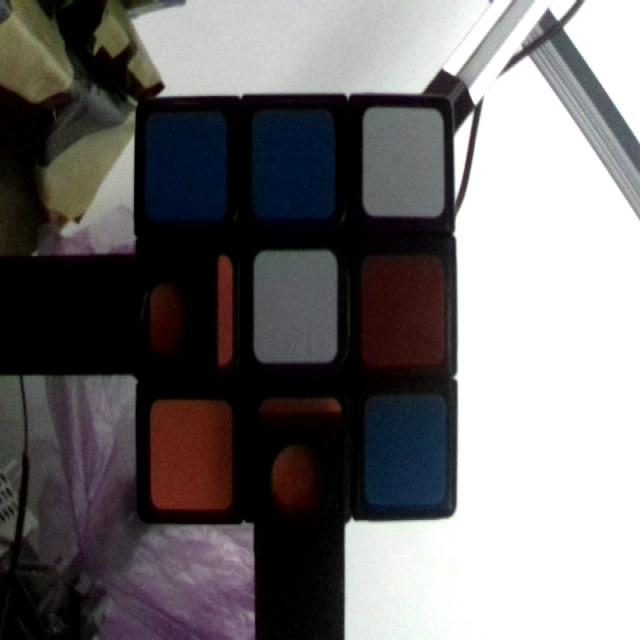b: (143, 105, 231, 222), (365, 393, 450, 508), (256, 112, 345, 214)
o: (152, 397, 234, 514), (259, 396, 346, 505), (153, 257, 235, 361)
r: (367, 260, 448, 368)
w: (362, 102, 442, 216), (257, 254, 334, 361)
